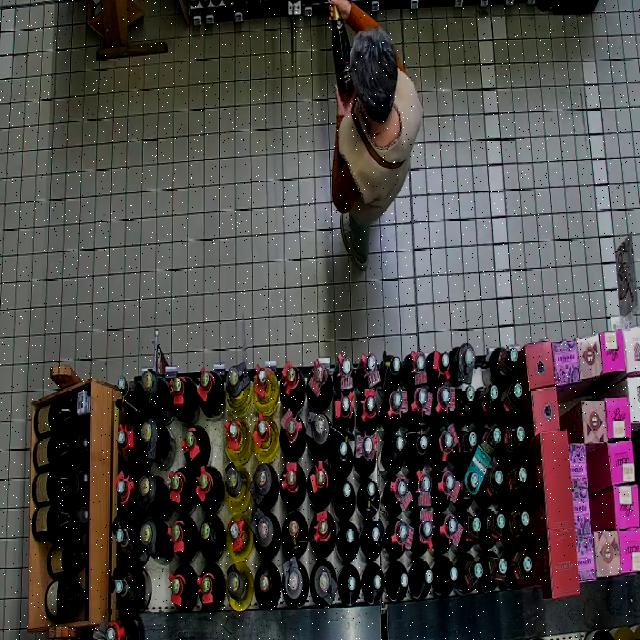article: (332, 5, 355, 95)
hands: (336, 86, 355, 116), (330, 0, 350, 18)
person: (330, 0, 422, 270)
